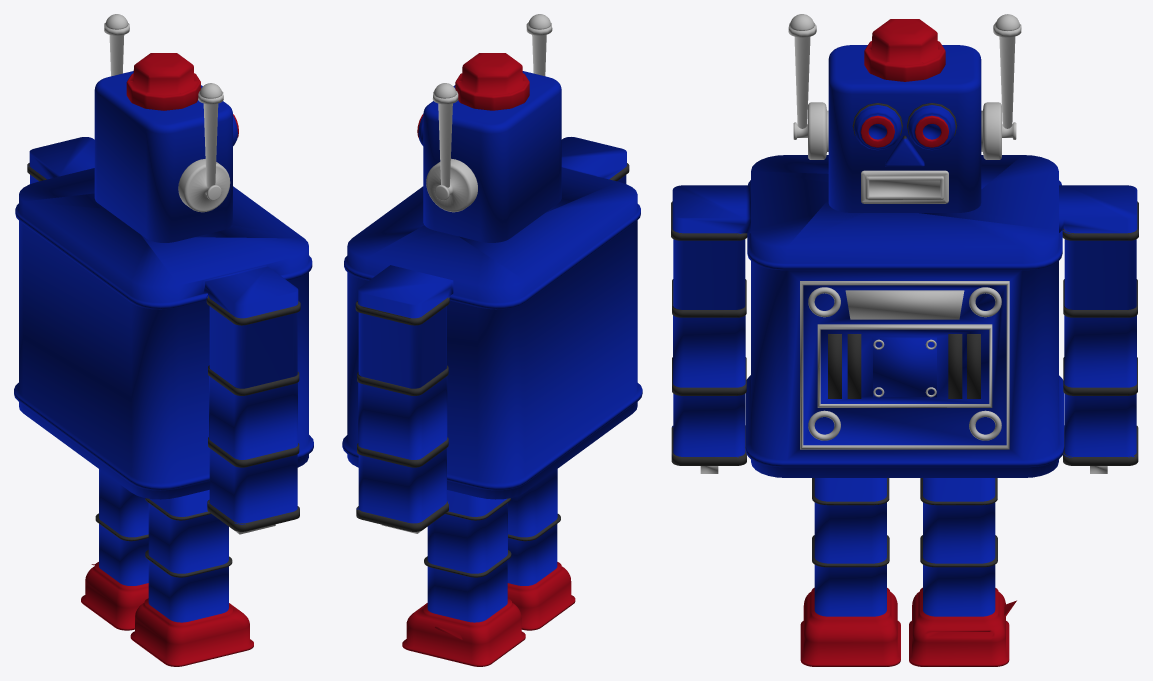
File: robot.glb
The picture shows the model from 3 angles, left to right: view 1: azimuth 30°, elevation 25°; view 2: azimuth 150°, elevation 25°; view 3: azimuth 270°, elevation 25°; orthographic projection. The views are drawn at different scales.
Parts seen in each view (by area): view 1: Cube; view 2: Cube; view 3: Cube.
Boxes of the visible parts, left/top/right/bottom form: Cube: left=14, top=14, right=313, bottom=666; Cube: left=342, top=14, right=642, bottom=666; Cube: left=671, top=14, right=1138, bottom=666.
Bounding box in the file's own units: 8.52 × 25.53 × 17.28.
